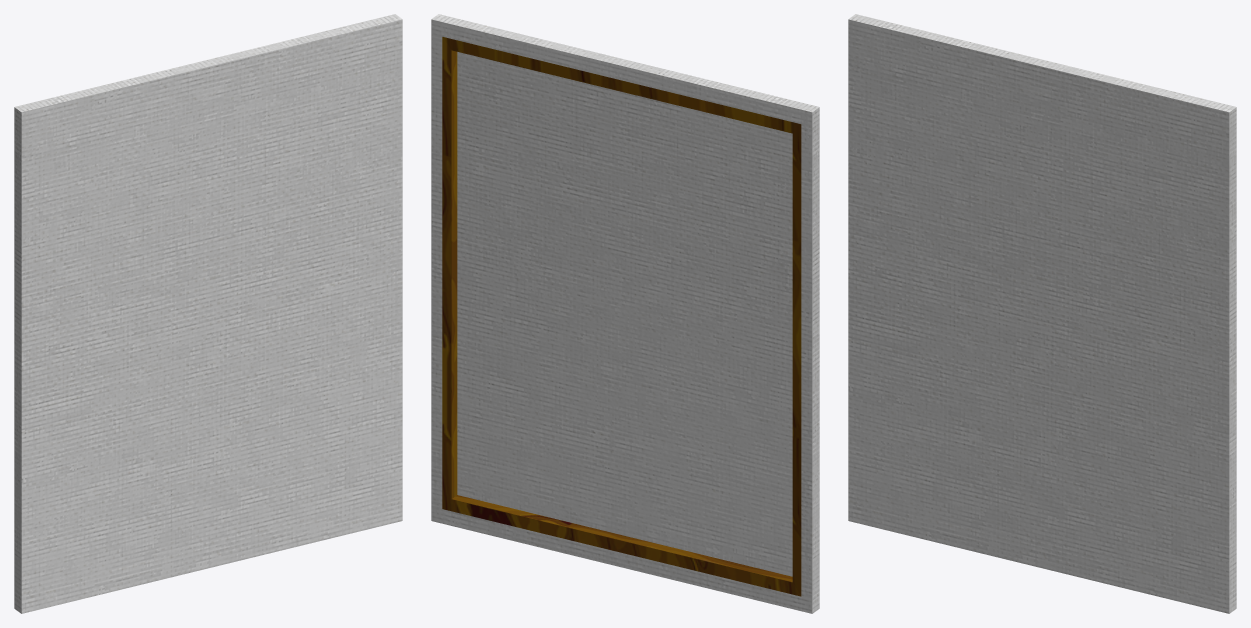
Rendered from painting-c3_dot20.glb.
3 renders of one model, left to right at view 1: azimuth 30°, elevation 25°; view 2: azimuth 150°, elevation 25°; view 3: azimuth 330°, elevation 25°, orthographic.
Visible parts, largest first — view 1: painting_canvas.002; view 2: painting_canvas.002, painting_canvas.001; view 3: painting_canvas.002.
Part boxes in pixels (x1=…): painting_canvas.002: x1=14, y1=14, x2=402, y2=613; painting_canvas.002: x1=431, y1=14, x2=819, y2=613; painting_canvas.001: x1=442, y1=37, x2=801, y2=596; painting_canvas.002: x1=848, y1=14, x2=1236, y2=613.
Size of the model in its own units: 0.9502 by 1.19 by 0.0318.
2 materials, 2 textured.
